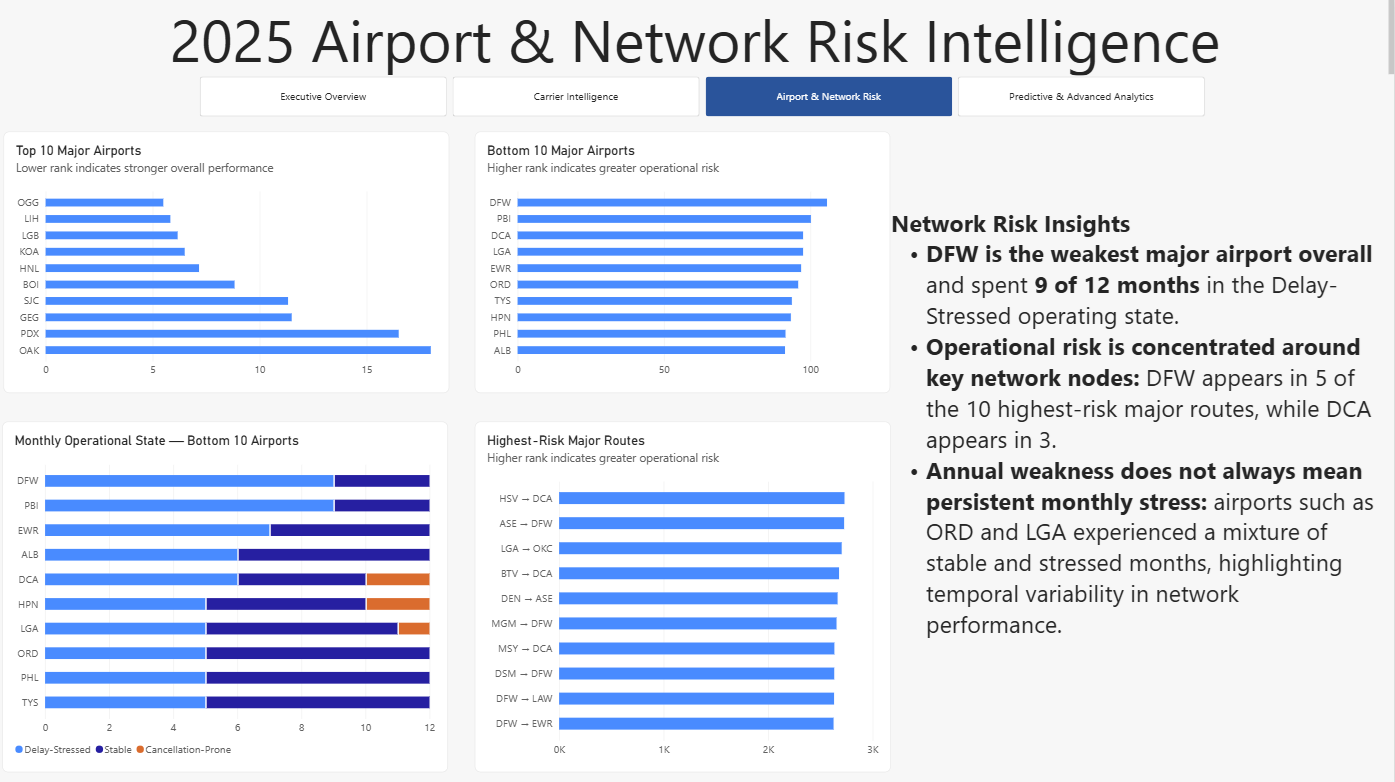

This screenshot's page, from the dashboard's own definition file:
{"tool":"powerbi","page":{"name":"Airport & Network Risk","canvas":[1920,1080],"ordinal":2},"visuals":[{"type":"textbox","box":[9.4,0,1911,104.9],"z":0},{"type":"clusteredBarChart","title":"Top 10 Major Airports","fields":{"Category":["Annual Airport Benchmark 2025.airport_code"],"Y":["Sum(Annual Airport Benchmark 2025.average_operational_rank)"]},"box":[9.9,181.6,611.8,359.2],"z":1000},{"type":"clusteredBarChart","title":"Bottom 10 Major Airports","fields":{"Category":["Annual Airport Benchmark 2025.airport_code"],"Y":["Sum(Annual Airport Benchmark 2025.average_operational_rank)"]},"box":[657.2,181.6,570.4,359.2],"z":2000},{"type":"barChart","title":"Monthly Operational State — Bottom 10 Airports","fields":{"Category":["Annual Airport Benchmark 2025.airport_code"],"Y":["Sum(Annual Airport Benchmark 2025.months_delay_stressed)","Sum(Annual Airport Benchmark 2025.months_stable)","Sum(Annual Airport Benchmark 2025.months_cancellation_prone)"]},"box":[9,580.4,611.8,481.8],"z":3000},{"type":"barChart","title":"Highest-Risk Major Routes","fields":{"Category":["Annual Route Benchmark 2025.route"],"Y":["Sum(Annual Route Benchmark 2025.average_operational_rank)"]},"box":[656.6,580.4,571.4,481.8],"z":4000},{"type":"textbox","box":[1228,284.6,665.5,614],"z":5000},{"type":"pageNavigator","box":[280.3,106.6,1383.6,55.3],"z":5001}]}

Visuals, with their boxes in screenshot pixels (x1, y1, x2, y2), scaled from the page's 1920x1080 canvas onto the 1395x782 screenshot:
textbox: 7, 0, 1394, 76
"Top 10 Major Airports" clusteredBarChart: 7, 131, 452, 392
"Bottom 10 Major Airports" clusteredBarChart: 477, 131, 892, 392
"Monthly Operational State — Bottom 10 Airports" barChart: 7, 420, 451, 769
"Highest-Risk Major Routes" barChart: 477, 420, 892, 769
textbox: 892, 206, 1376, 651
pageNavigator: 204, 77, 1209, 117
